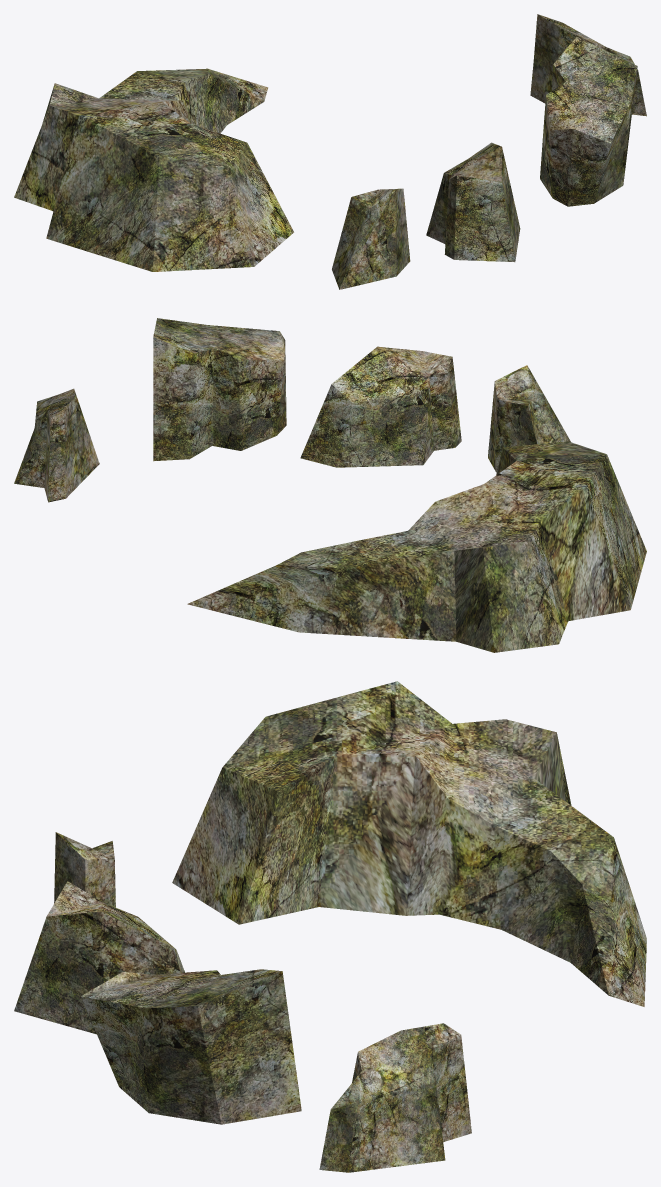
3 views of the same model, one above another, from view 1: azimuth 30°, elevation 25°; view 2: azimuth 150°, elevation 25°; view 3: azimuth 270°, elevation 25° (orthographic). The views are drawn at different scales.
Parts seen in each view (by area): view 1: _r_grp5B; view 2: _r_grp5B; view 3: _r_grp5B.
Boxes of the visible parts, <box> form: _r_grp5B: <box>14,14,646,289</box>; _r_grp5B: <box>14,318,646,652</box>; _r_grp5B: <box>14,681,646,1172</box>.
Size of the model in its own units: 10.99 by 2 by 7.93.
1 material, 1 textured.
